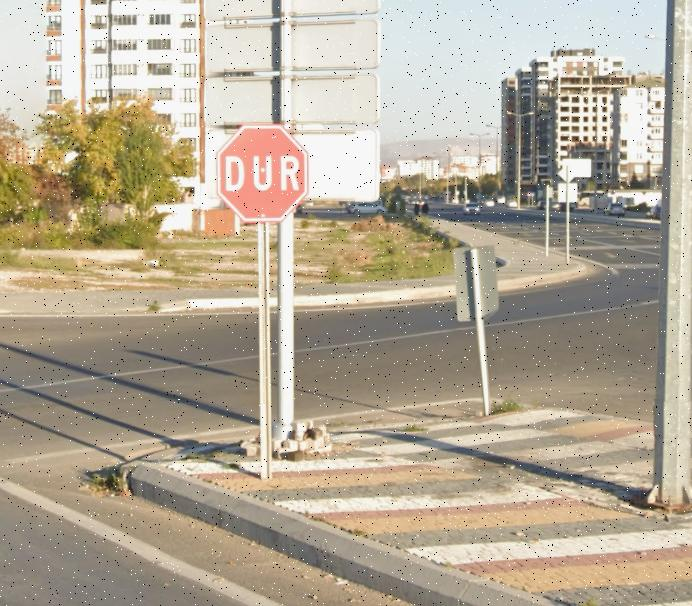stop: (215, 127, 308, 216)
